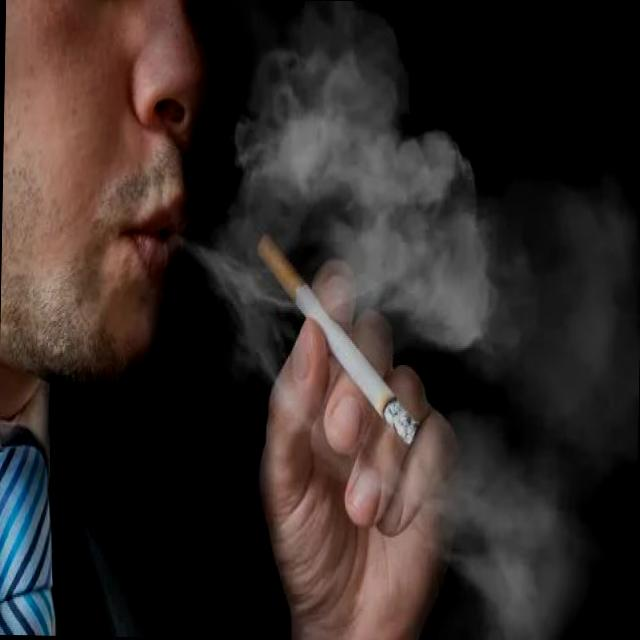smoke: (250, 232, 418, 445)
